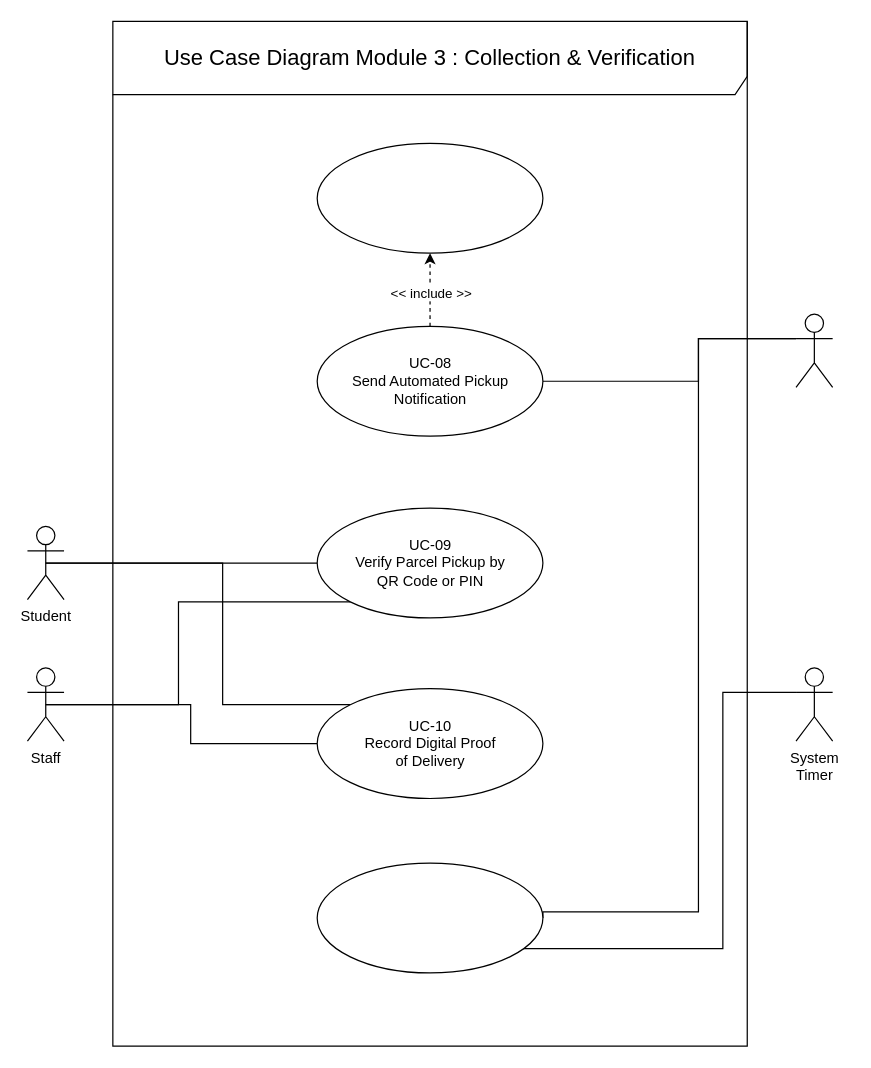
Image size: 871x1068. Some labels were removed from this diagram. Here are the shapes that lost their labels. From the top down, the centre of each, then its label:
point (429, 197): UC-07 Generate Unique QR Code & PIN
point (814, 350): Notification Gateway
point (429, 917): UC-11 Mark Overdue & Send Reminder
